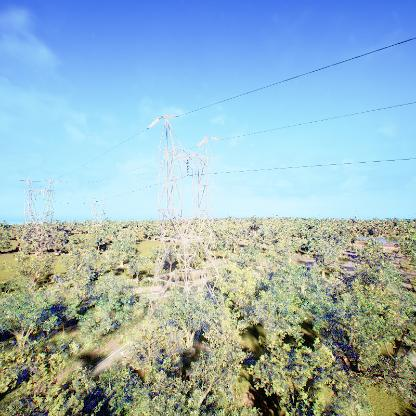tower: (141, 111, 234, 354), (18, 174, 59, 261)
